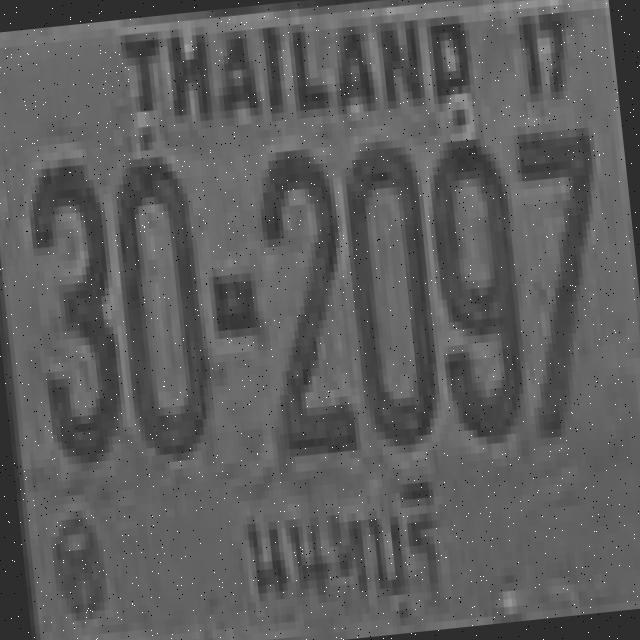0: (104, 146, 216, 457), (335, 138, 442, 448)
2: (248, 142, 358, 454)
3: (20, 155, 126, 466)
7: (506, 120, 616, 430)
9: (420, 128, 528, 440)
Nonthaburi: (226, 453, 454, 631)
